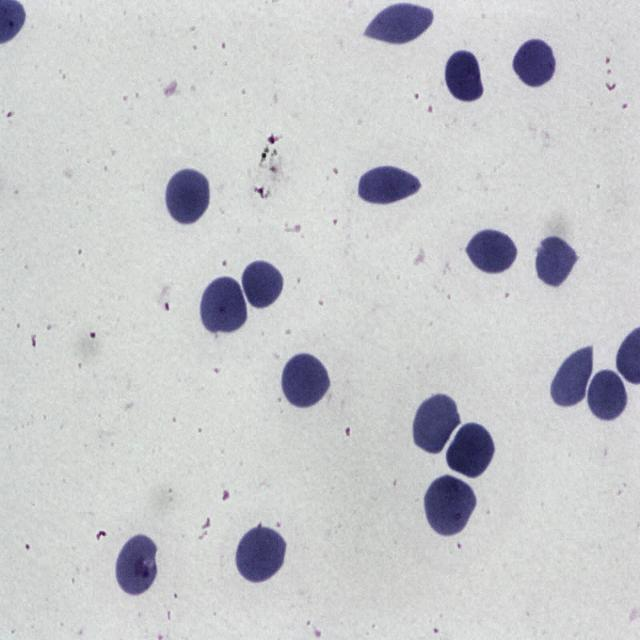red blood cell: (423, 473, 478, 540), (412, 391, 462, 459), (234, 522, 287, 586), (280, 349, 332, 412), (113, 532, 161, 600), (199, 274, 249, 339), (551, 342, 596, 411), (163, 165, 212, 228), (362, 2, 435, 44), (463, 225, 520, 278), (446, 421, 496, 481), (358, 164, 422, 206), (534, 232, 580, 289), (512, 35, 558, 90), (586, 367, 630, 423), (240, 256, 284, 312), (444, 48, 484, 104)
